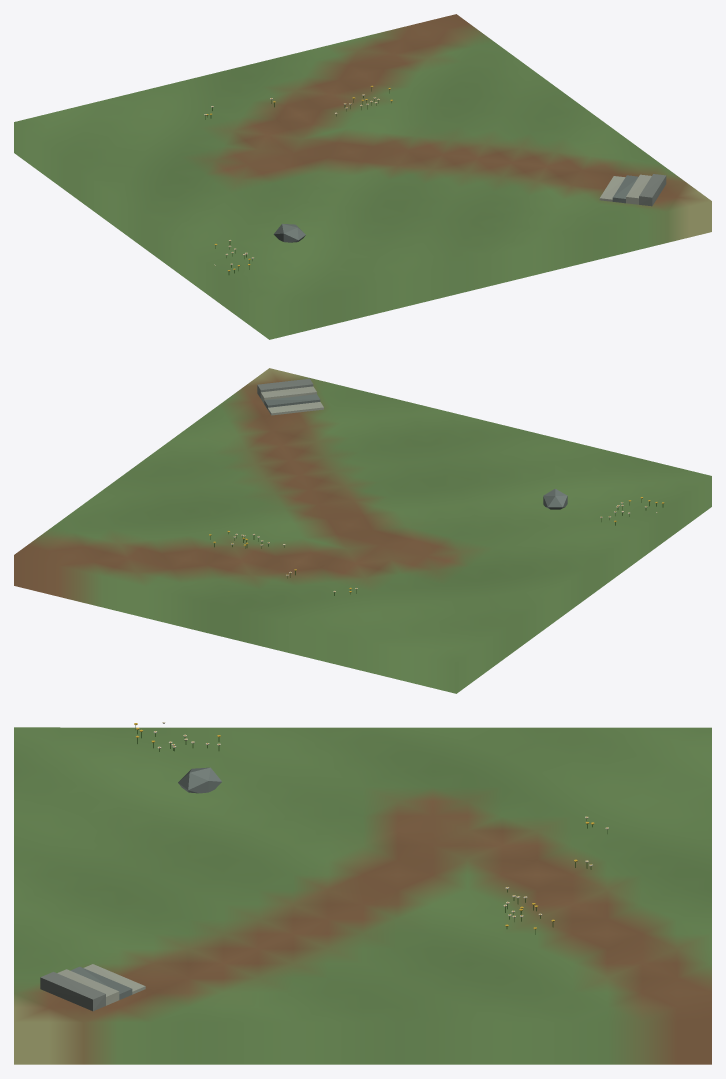
The picture shows the model from 3 angles, top to bottom: view 1: azimuth 30°, elevation 25°; view 2: azimuth 150°, elevation 25°; view 3: azimuth 270°, elevation 25°; orthographic projection. The views are drawn at different scales.
Visible parts, largest first — view 1: terrain, scenery; view 2: terrain, scenery; view 3: terrain, scenery.
Boxes of the visible parts, left/top/right/bottom form: terrain: left=14, top=14, right=711, bottom=339; scenery: left=204, top=85, right=666, bottom=274; terrain: left=14, top=368, right=711, bottom=693; scenery: left=209, top=378, right=664, bottom=595; terrain: left=14, top=727, right=711, bottom=1064; scenery: left=40, top=722, right=608, bottom=1011.
Size of the model in its own units: 30 by 2.78 by 30.
